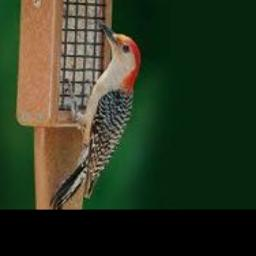Woodpecker: (50, 19, 140, 207)
